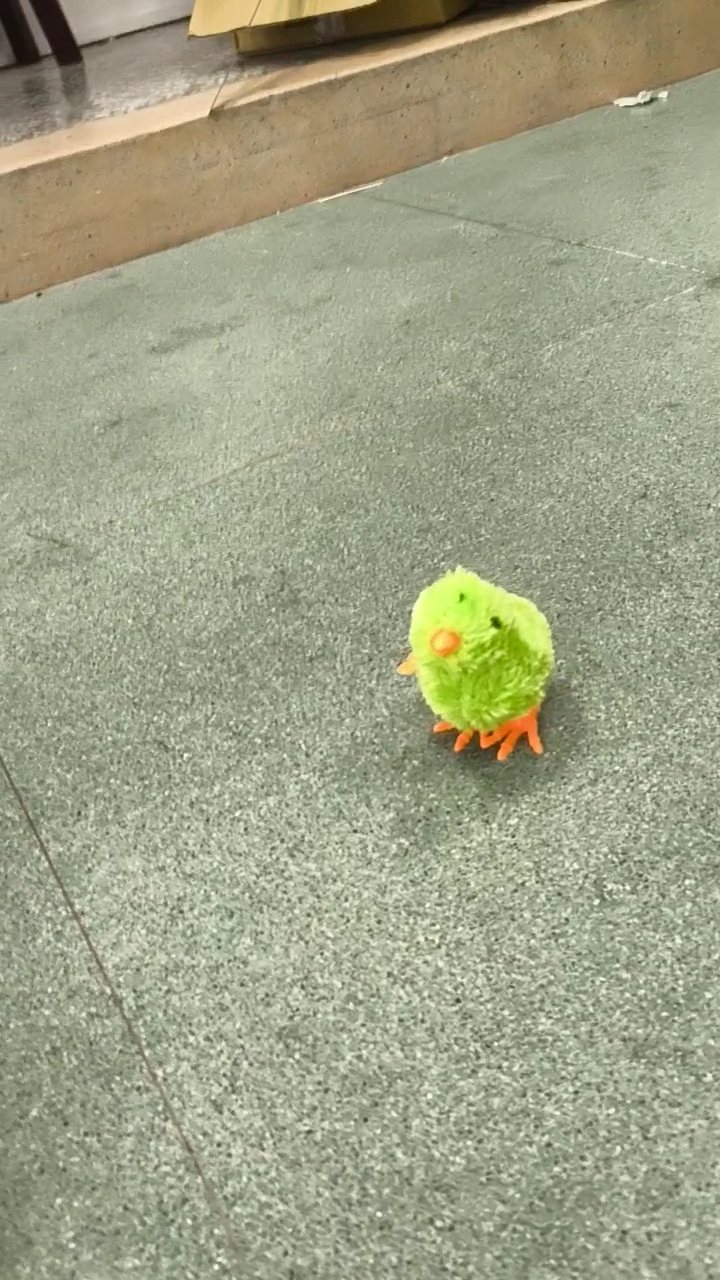green chicken: (392, 563, 563, 766)
